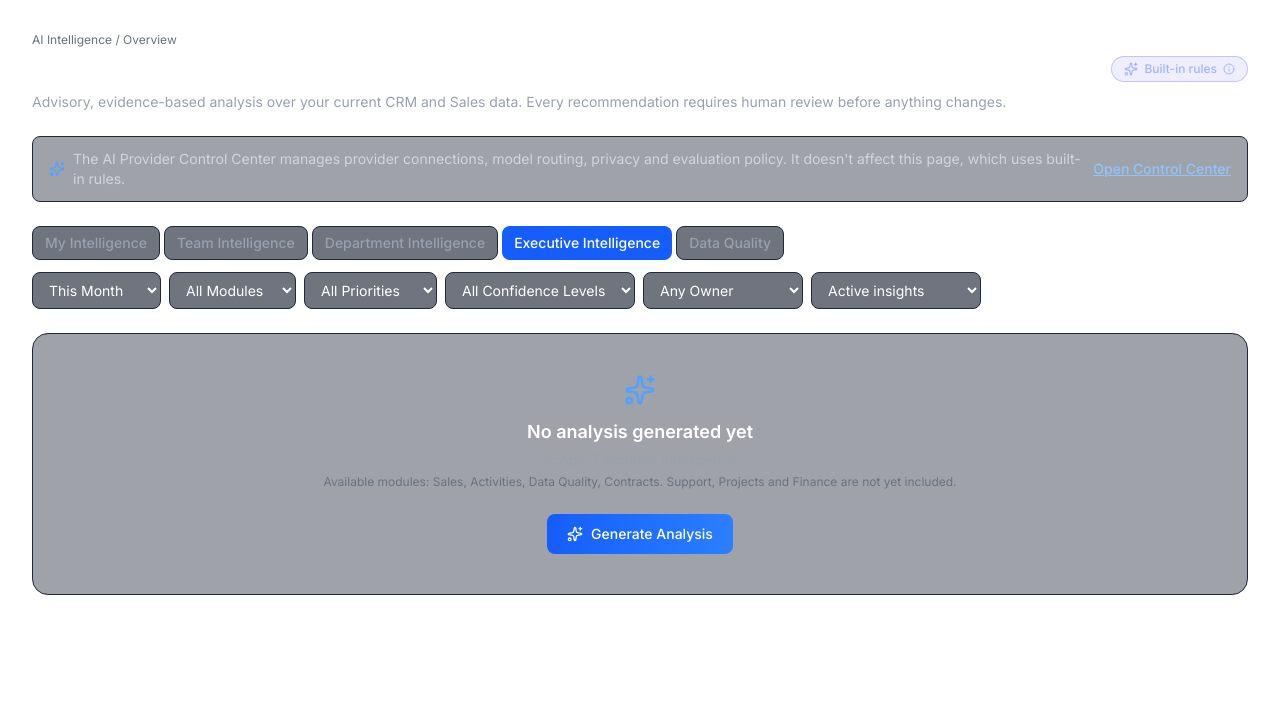
AiOverview — route rendering and behavior › Populated state: renders an Executive Summary with calculated figures and insight cards
Click the button "Generate Analysis".
click(640, 534)  # box [547,514,733,554]
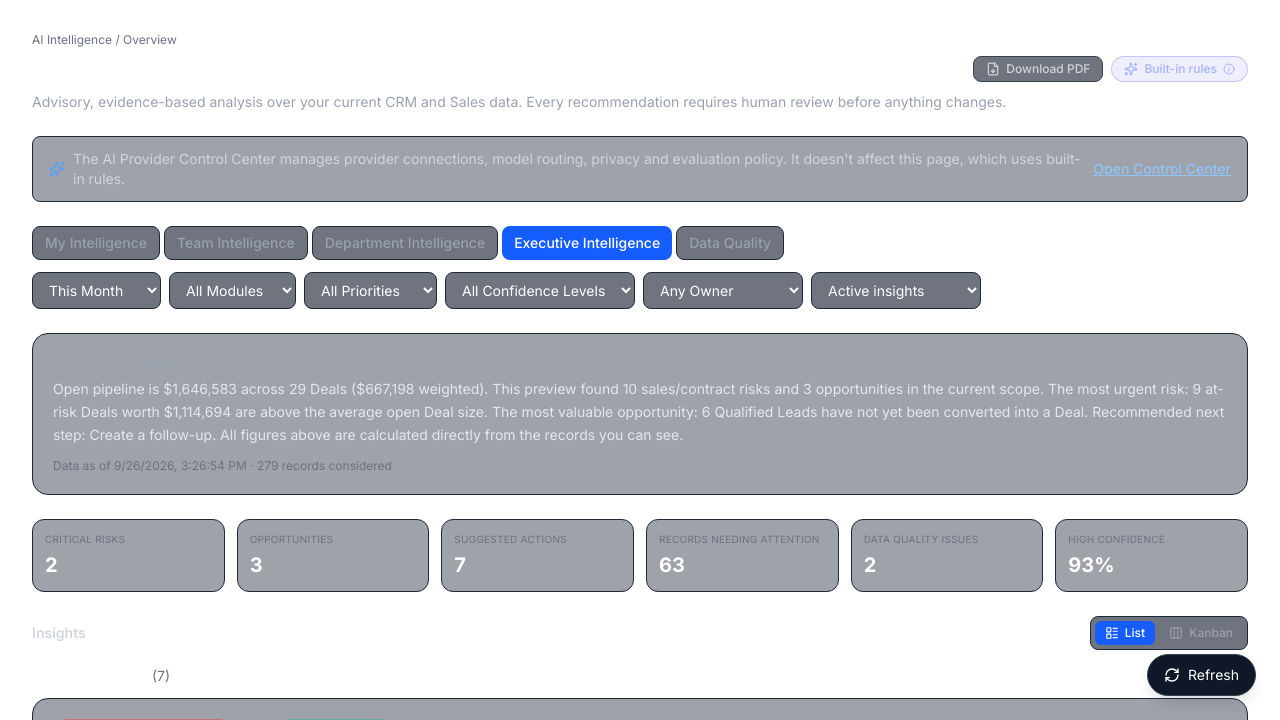
Check: the text "Open pipeline is" is shown, box [53,380,1224,442]
